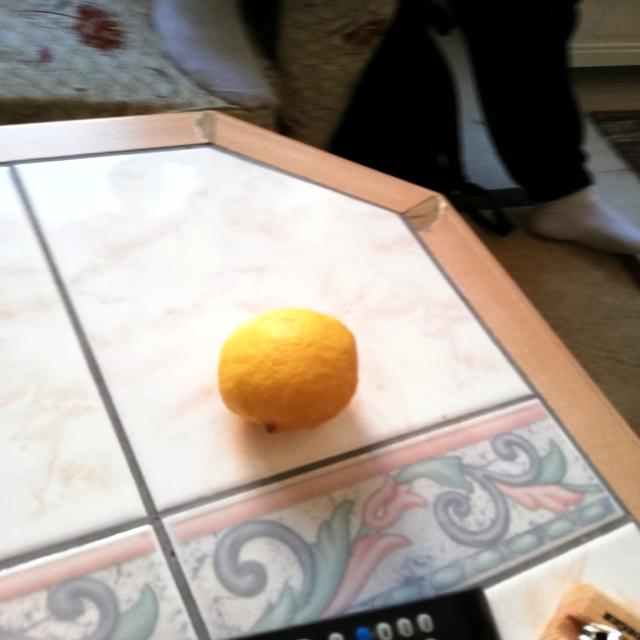lemon: (208, 298, 370, 438)
